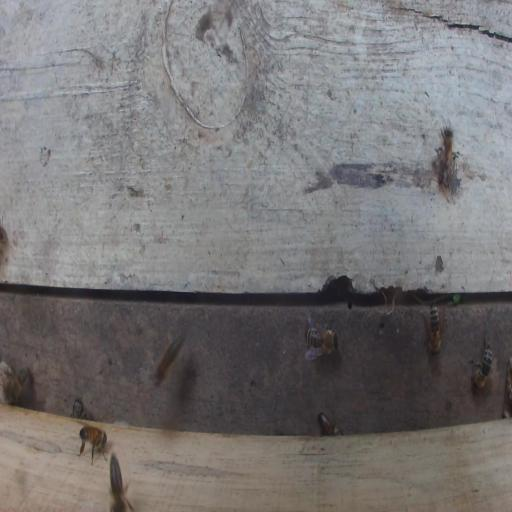bee: (304, 312, 341, 361), (153, 329, 185, 385), (420, 302, 447, 359), (435, 114, 455, 189), (109, 455, 134, 510), (468, 334, 492, 391), (78, 423, 108, 465), (1, 363, 30, 404), (317, 406, 344, 436), (71, 398, 85, 419)
